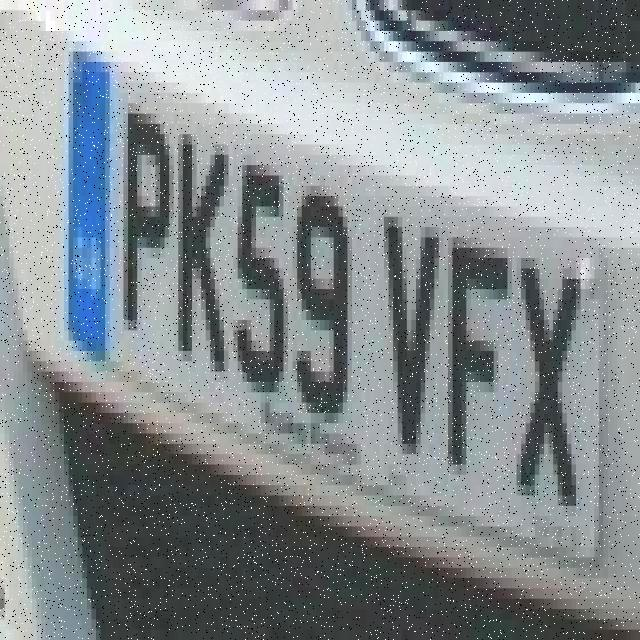licenseplate: (56, 29, 614, 594)
